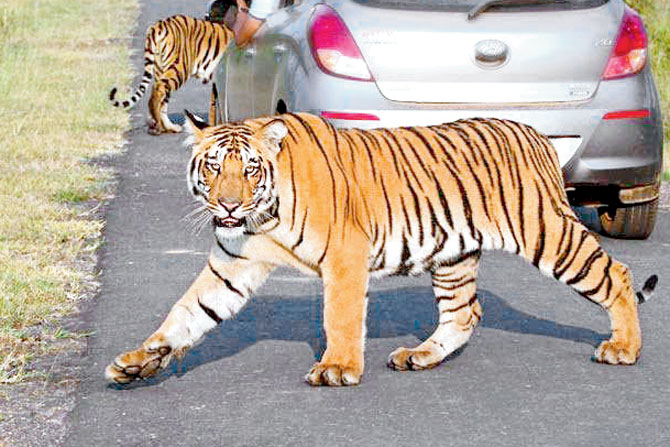Tiger: (108, 93, 667, 395)
